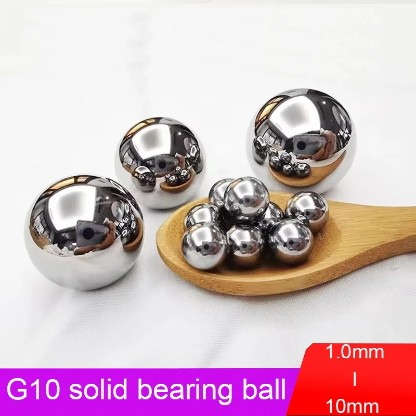ironball: (23, 173, 144, 291), (245, 87, 356, 194), (113, 115, 205, 209), (180, 221, 228, 270), (222, 175, 269, 222), (267, 217, 313, 264), (284, 190, 328, 232), (225, 222, 264, 267), (183, 202, 224, 230), (252, 200, 284, 231), (208, 177, 235, 207)
